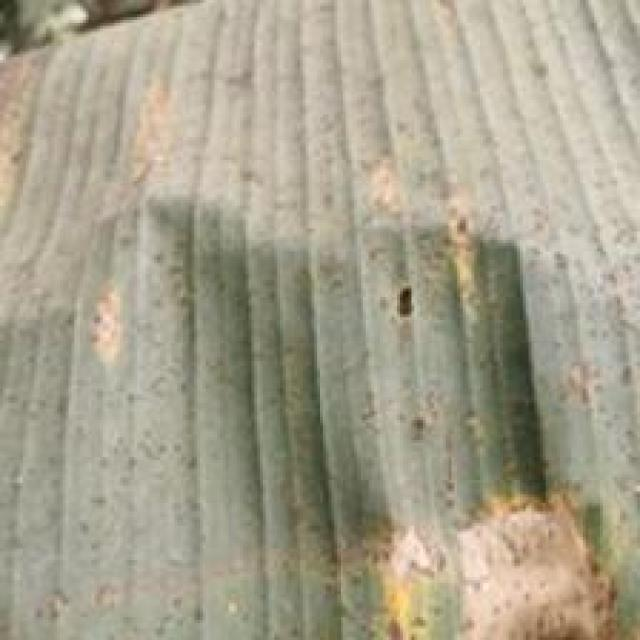Downey_mildrew: (266, 472, 640, 640), (83, 66, 230, 361), (344, 154, 502, 338), (0, 48, 53, 223)
